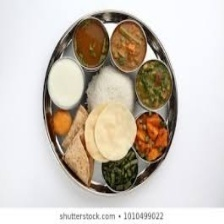rice: (84, 65, 137, 118)
